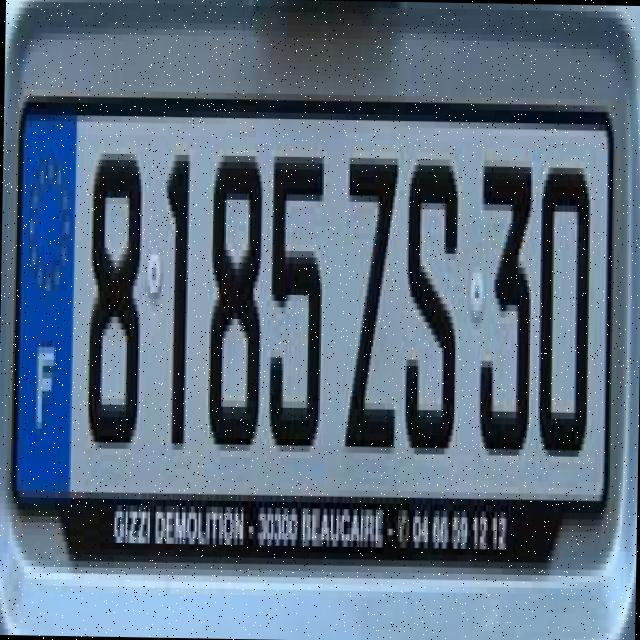EU: (9, 104, 609, 581)
France: (16, 104, 80, 495)
